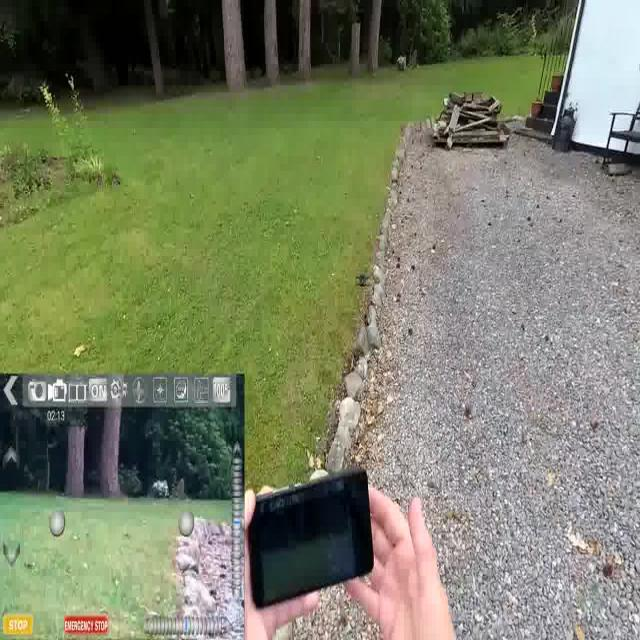drones: (355, 264, 371, 296)
